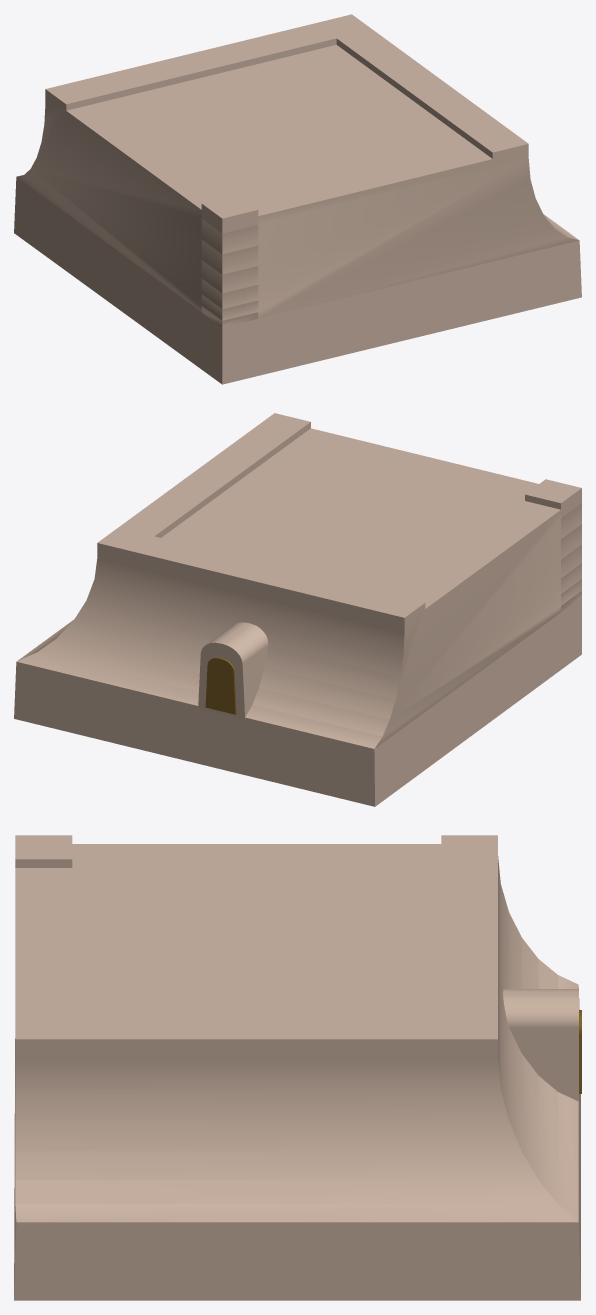
Rendered from DustCityHouse_Corner.fbx.
3 renders of one model, top to bottom at view 1: azimuth 30°, elevation 25°; view 2: azimuth 150°, elevation 25°; view 3: azimuth 270°, elevation 25°, orthographic. The views are drawn at different scales.
Visible parts, largest first — view 1: DCHouse_Corner; view 2: DCHouse_Corner, HouseDoor; view 3: DCHouse_Corner, HouseDoor.
Part boxes in pixels (x1=…): DCHouse_Corner: x1=14, y1=14, x2=581, y2=384; DCHouse_Corner: x1=14, y1=413, x2=581, y2=806; HouseDoor: x1=198, y1=622, x2=268, y2=719; DCHouse_Corner: x1=14, y1=835, x2=580, y2=1300; HouseDoor: x1=503, y1=989, x2=581, y2=1104.
Bounding box in the file's own units: 176 × 77.66 × 176.
